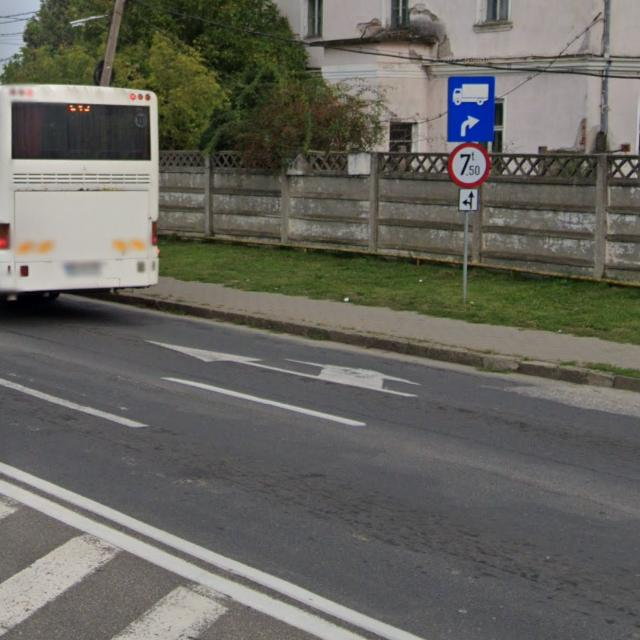forb_weight_over_7.5t: (448, 142, 489, 188)
